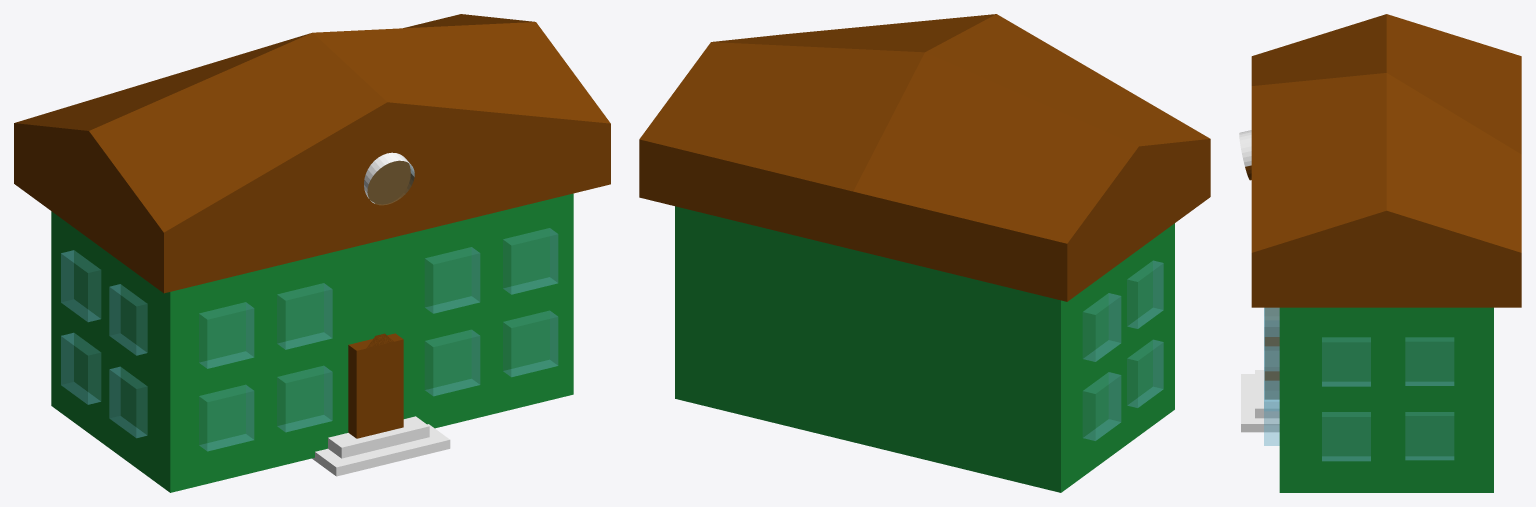
Rendered from bativert.glb.
3 renders of one model, left to right at view 1: azimuth 30°, elevation 25°; view 2: azimuth 150°, elevation 25°; view 3: azimuth 270°, elevation 25°, orthographic. The views are drawn at different scales.
Visible parts, largest first — view 1: Cube.001, Cube, Cube.010, Cube.003, Cube.004, Cube.002, Cube.008, Cube.009, Cube.005, Cube.006, Cube.007, Cube.012 (+5 smaller); view 2: Cube.001, Cube, Cube.014, Cube.015, Cube.016, Cube.013; view 3: Cube.001, Cube, Cube.017, Cube.020, Cube.018, Cube.019, Cube.010, Cube.012, Cube.007, Cube.006, Cube.008, Cube.011 (+1 smaller).
Boxes of the visible parts, x1,y1,x2,y2 form: Cube.001: [14, 14, 610, 293]; Cube: [51, 193, 573, 492]; Cube.010: [348, 333, 403, 438]; Cube.003: [277, 283, 332, 349]; Cube.004: [277, 366, 332, 431]; Cube.002: [199, 302, 253, 368]; Cube.008: [503, 228, 557, 294]; Cube.009: [425, 247, 479, 313]; Cube.005: [199, 385, 253, 451]; Cube.006: [425, 330, 479, 395]; Cube.007: [503, 311, 557, 376]; Cube.012: [312, 424, 450, 476]; Cube.001: [639, 14, 1210, 301]; Cube: [675, 206, 1174, 492]; Cube.014: [1083, 372, 1120, 440]; Cube.015: [1083, 293, 1120, 361]; Cube.016: [1127, 260, 1163, 328]; Cube.013: [1127, 340, 1163, 407]; Cube.001: [1239, 14, 1521, 307]; Cube: [1279, 307, 1493, 492]; Cube.017: [1322, 337, 1370, 386]; Cube.020: [1322, 412, 1370, 460]; Cube.018: [1405, 337, 1453, 385]; Cube.019: [1405, 412, 1453, 459]; Cube.010: [1264, 308, 1279, 399]; Cube.012: [1241, 374, 1279, 432]; Cube.007: [1264, 381, 1279, 445]; Cube.006: [1264, 346, 1279, 410]; Cube.008: [1264, 308, 1279, 370]; Cube.011: [1255, 370, 1279, 418].
Size of the model in its own units: 19.02 by 15.08 by 11.55.
